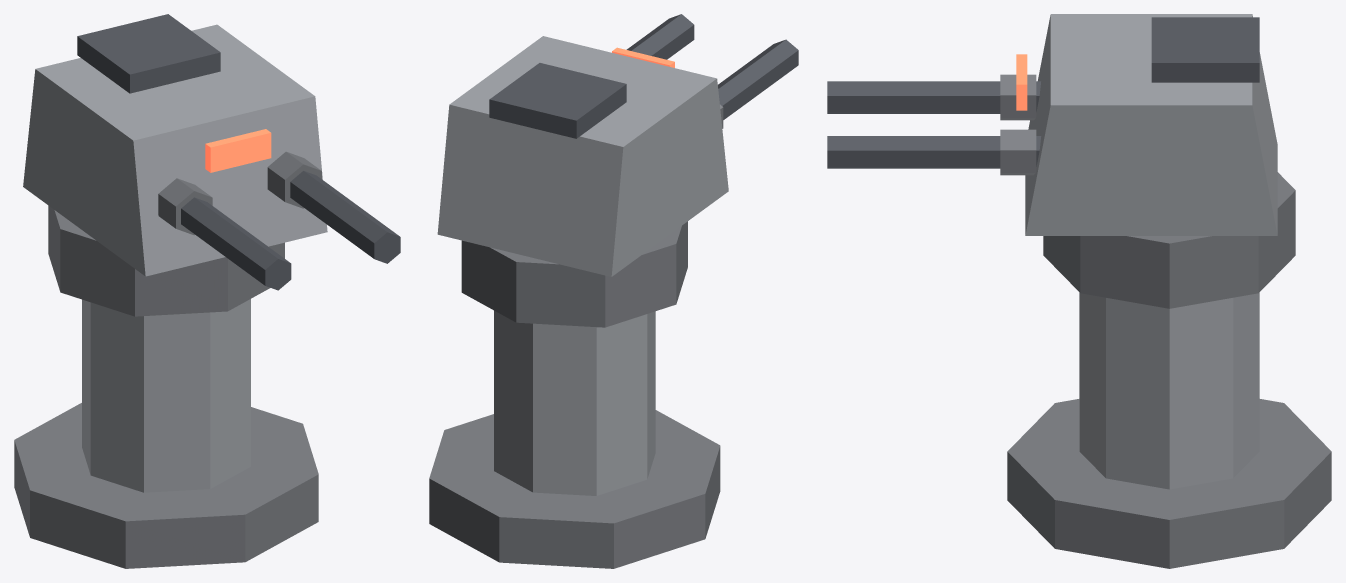
The model's file is SM_Defense_Turret.glb.
3 views of the same model, side by side, from view 1: azimuth 30°, elevation 25°; view 2: azimuth 150°, elevation 25°; view 3: azimuth 270°, elevation 25° (orthographic). The views are drawn at different scales.
Parts seen in each view (by area): view 1: SM_Defense_Turret; view 2: SM_Defense_Turret; view 3: SM_Defense_Turret.
Part boxes in pixels (<box>): SM_Defense_Turret: <box>14,14,400,568</box>; SM_Defense_Turret: <box>429,14,798,568</box>; SM_Defense_Turret: <box>827,14,1331,568</box>.
Bounding box in the file's own units: 0.9 × 1.41 × 1.4.
